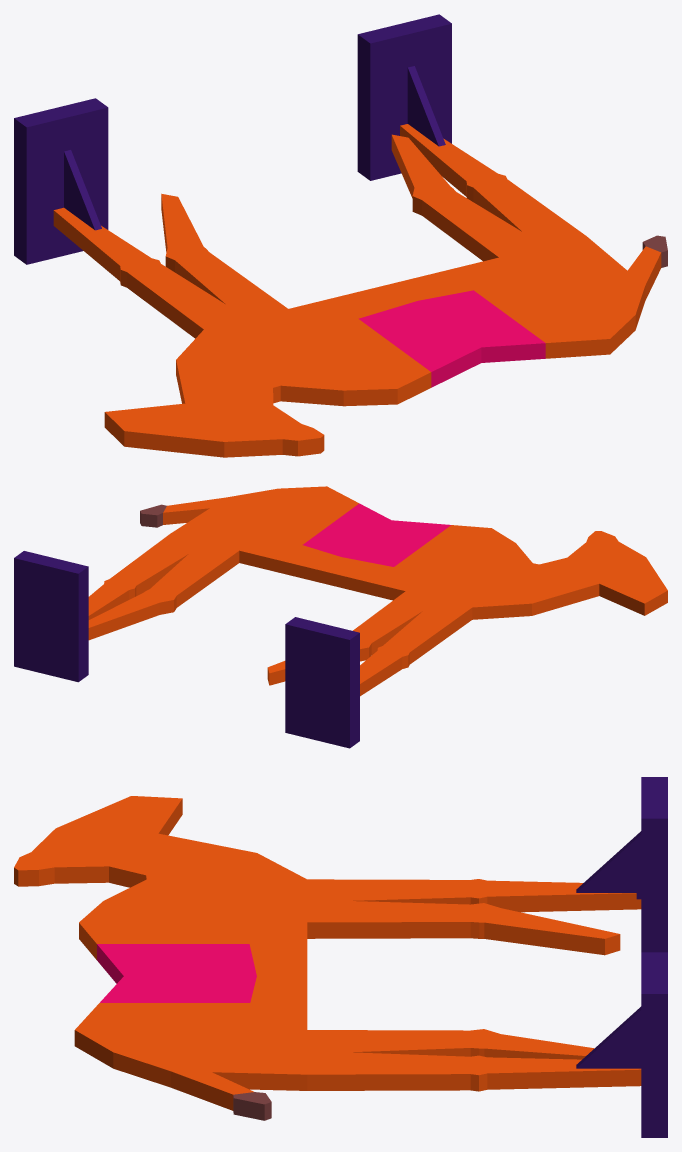
File: Camello.fbx
3 views of the same model, one above another, from view 1: azimuth 30°, elevation 25°; view 2: azimuth 150°, elevation 25°; view 3: azimuth 270°, elevation 25° (orthographic). The views are drawn at different scales.
Visible parts, largest first — view 1: Camello; view 2: Camello; view 3: Camello.
Boxes of the visible parts, x1=… form: Camello: x1=14, y1=14, x2=667, y2=457; Camello: x1=14, y1=486, x2=667, y2=748; Camello: x1=14, y1=777, x2=667, y2=1137.
Bounding box in the file's own units: 162 × 35.14 × 145.
